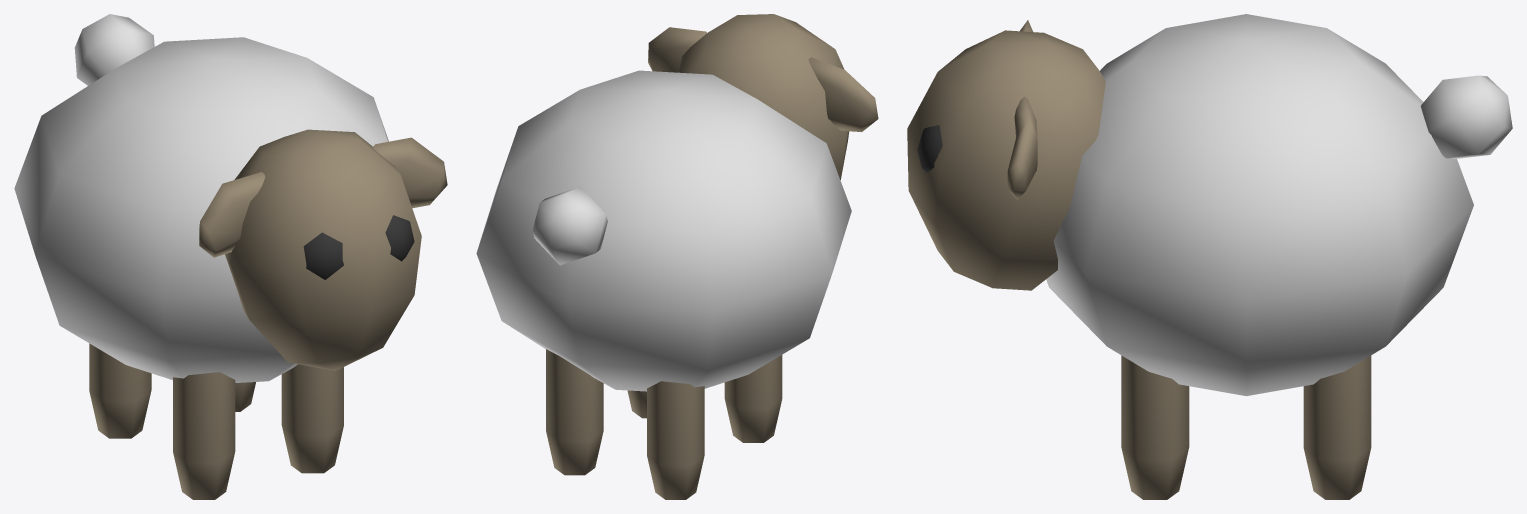
File: Sheep.glb
The picture shows the model from 3 angles, left to right: view 1: azimuth 30°, elevation 25°; view 2: azimuth 150°, elevation 25°; view 3: azimuth 270°, elevation 25°; orthographic projection. The views are drawn at different scales.
Parts seen in each view (by area): view 1: Sheep; view 2: Sheep; view 3: Sheep.
Part boxes in pixels (<box>): Sheep: <box>14,14,447,499</box>; Sheep: <box>476,14,878,499</box>; Sheep: <box>907,14,1512,499</box>.
Size of the model in its own units: 1 by 1.04 by 1.33.
